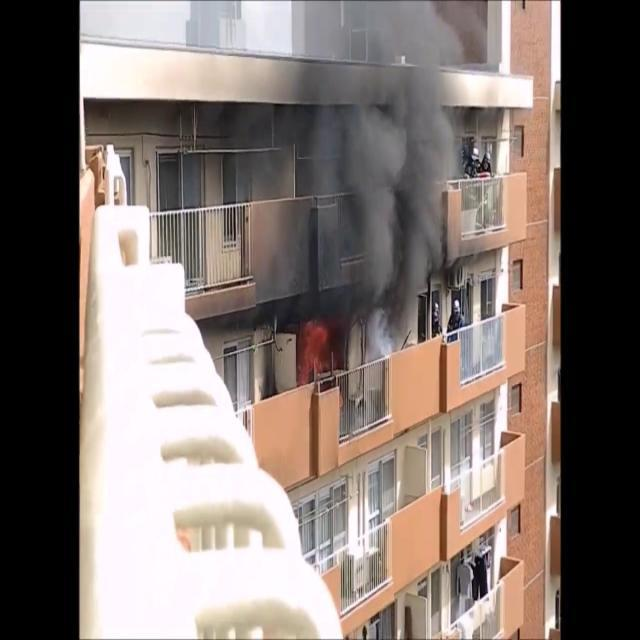Smoke: (192, 1, 462, 325)
